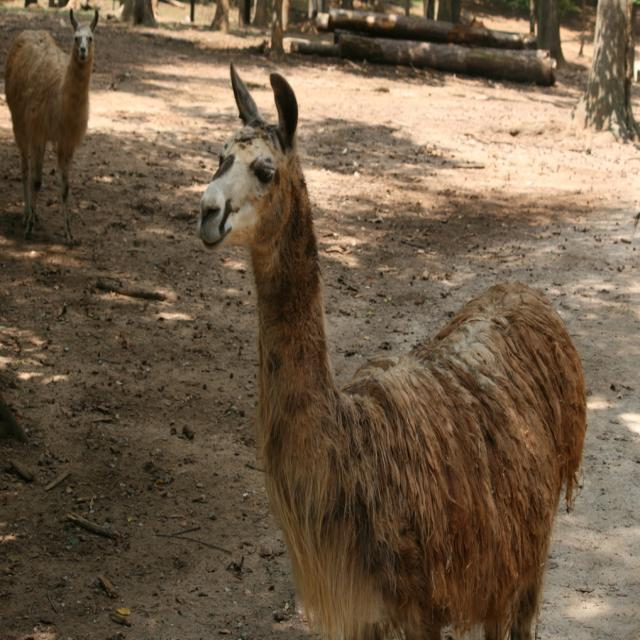alpaca: (197, 61, 584, 640), (4, 5, 100, 242)
